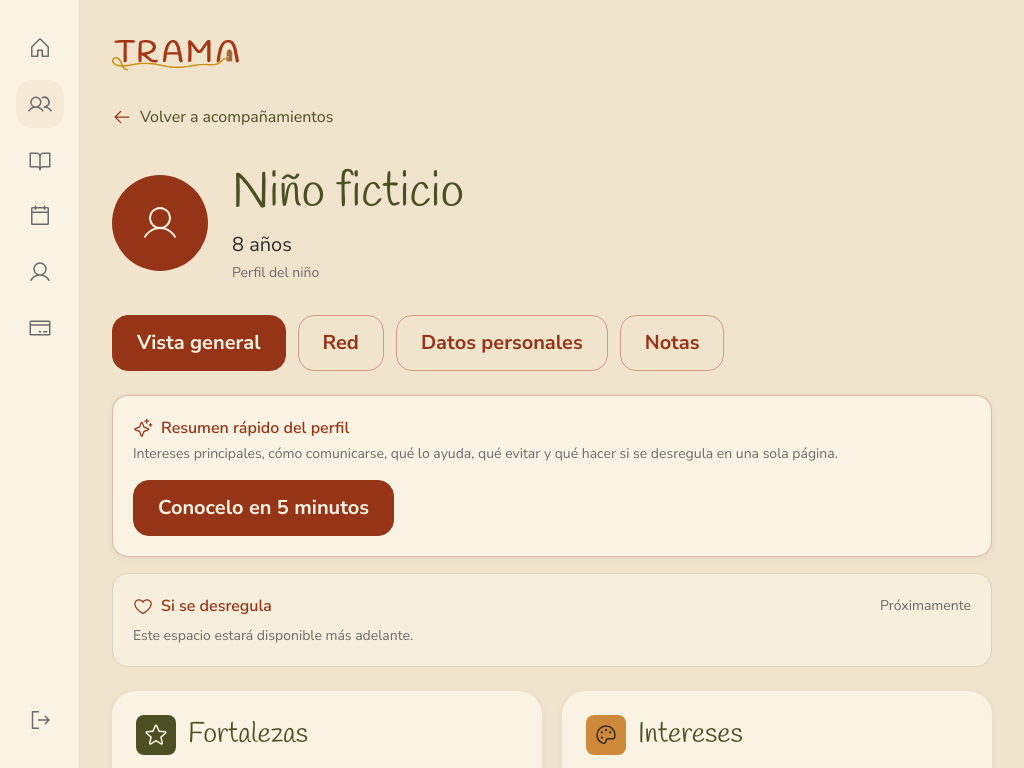
Test: Red de profesionales › abre Red desde el perfil y muestra las membresías reales
Click the link "Red" at point(341, 343), box [298,315,384,371]
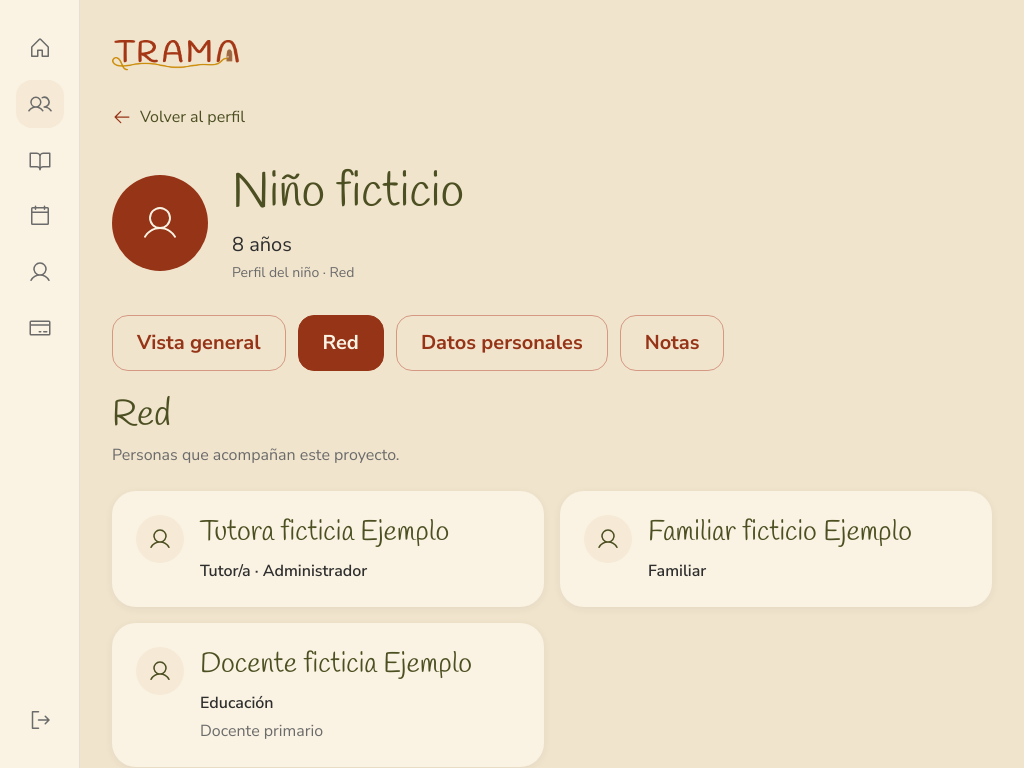
Expected: the heading "Docente ficticia Ejemplo" is shown, [200,647,472,683]
Expected: the text "Educación" is shown, [200,692,274,714]
Expected: the text "Docente primario" is shown, [200,720,323,742]
Click the link "Volver al perfil" at point(178, 117), box [112,106,245,128]
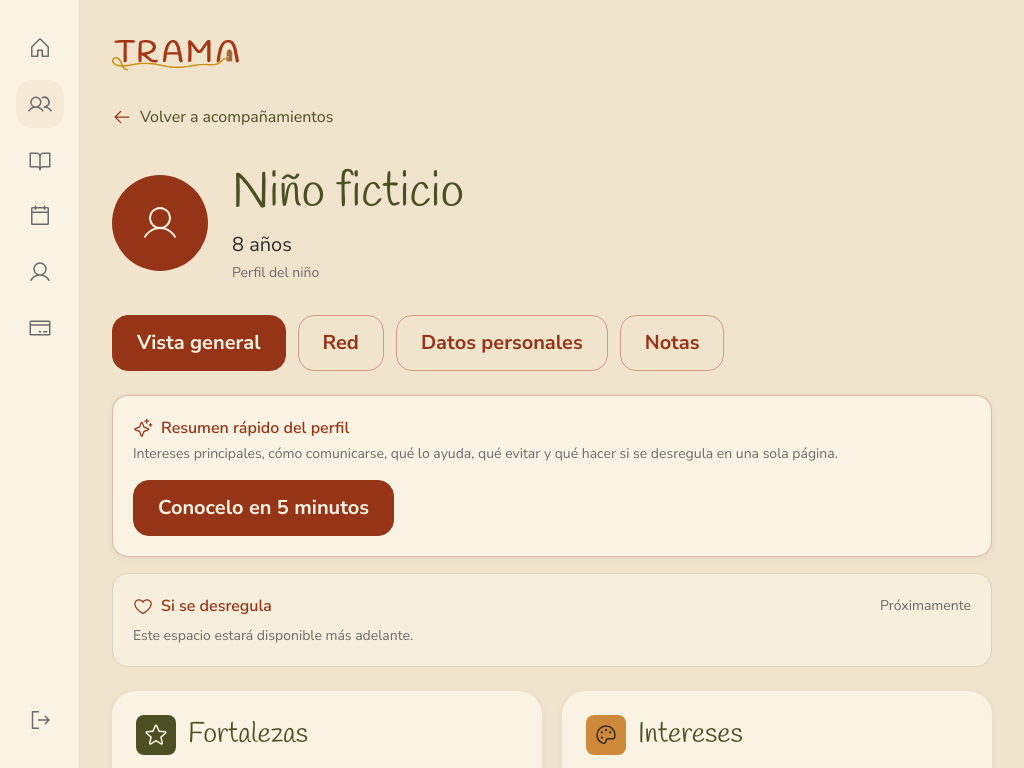
Expected: the heading "Fortalezas" is shown, [188,717,308,753]
